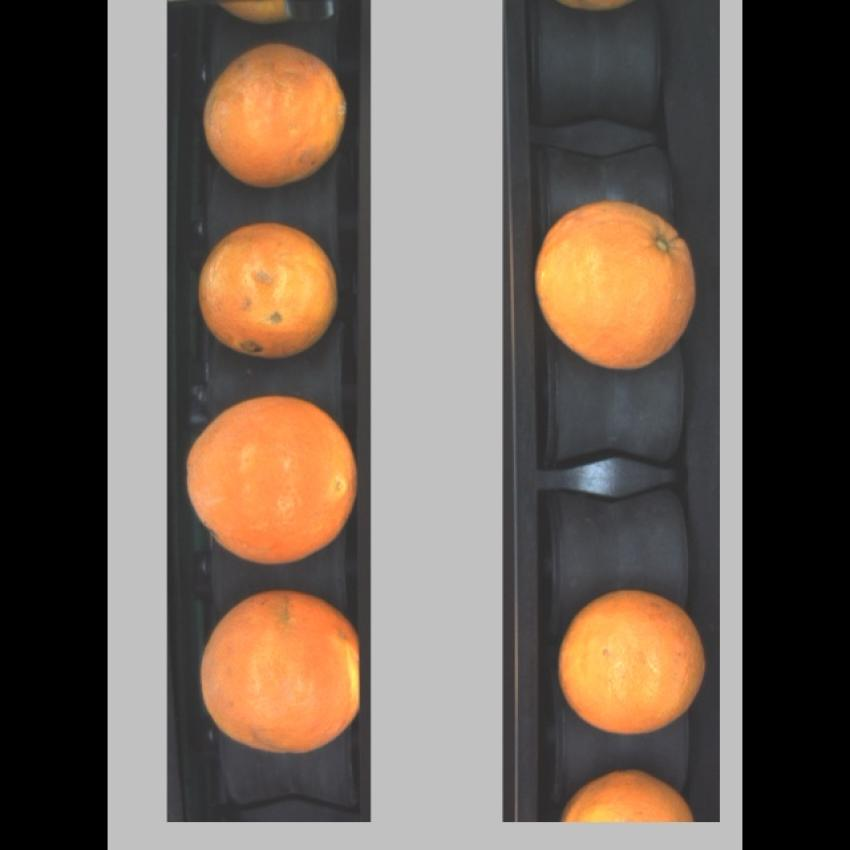Mal estado: (187, 386, 362, 568), (528, 201, 699, 373), (198, 588, 362, 758), (194, 40, 355, 191), (554, 582, 709, 736), (196, 216, 341, 361), (562, 762, 700, 820)
